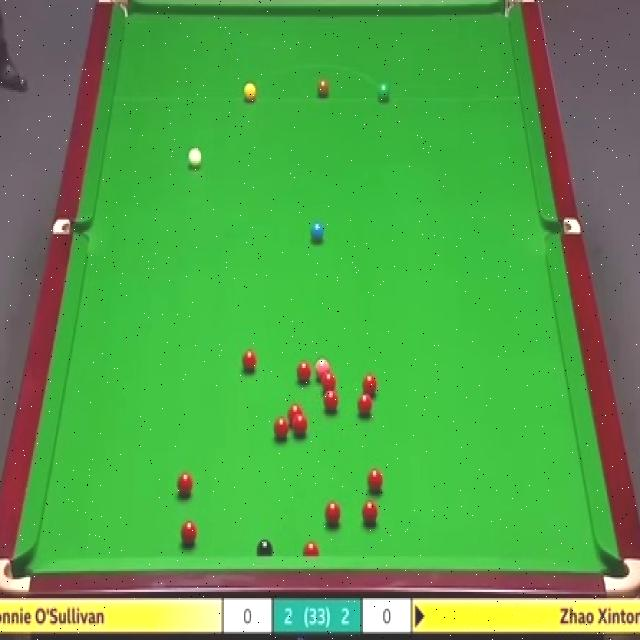black-ball: (256, 539, 274, 556)
blue-ball: (310, 222, 325, 240)
brown-ball: (318, 79, 329, 98)
green-ball: (376, 80, 391, 103)
pink-ball: (315, 357, 330, 379)
red-ball: (365, 469, 384, 495), (323, 389, 341, 414), (180, 522, 198, 546), (362, 500, 378, 526), (176, 472, 194, 494), (326, 496, 343, 519), (242, 346, 258, 370), (357, 392, 373, 416), (294, 362, 312, 383), (362, 372, 377, 395), (274, 416, 288, 440), (321, 371, 336, 390), (288, 404, 302, 424), (302, 541, 321, 555), (294, 414, 307, 434)
white-ball: (188, 147, 202, 171)
yellow-ball: (244, 81, 256, 103)
